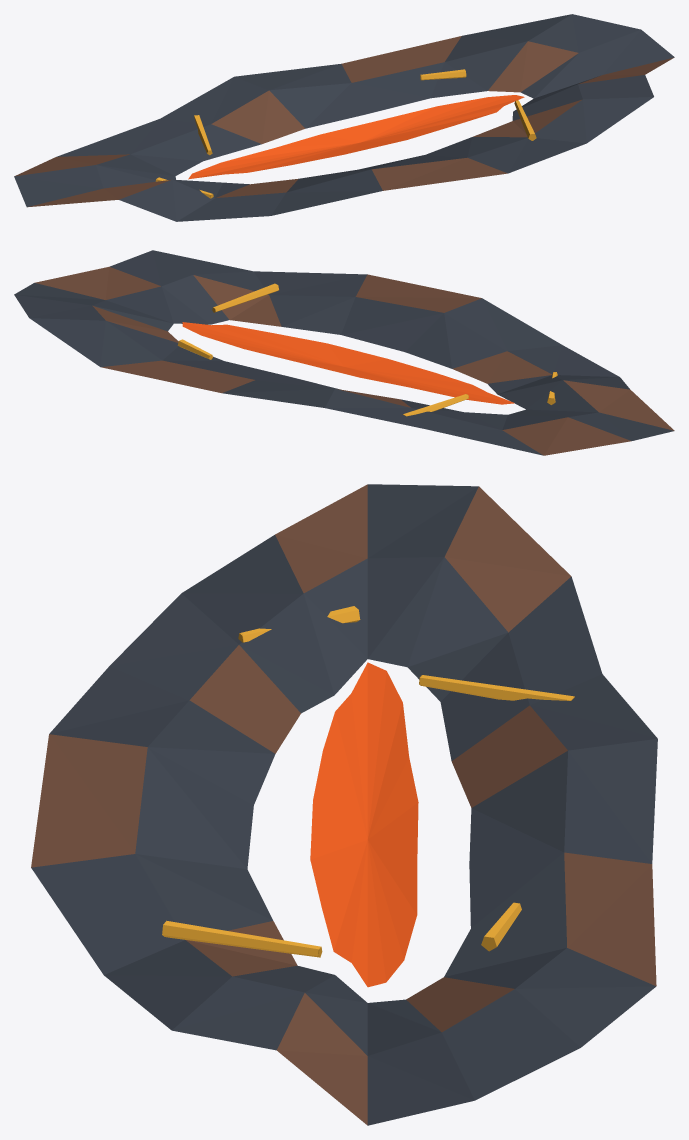
Rendered from 17_piscina_lava_3d.obj.
The picture shows the model from 3 angles, top to bottom: view 1: azimuth 30°, elevation 25°; view 2: azimuth 150°, elevation 25°; view 3: azimuth 270°, elevation 25°; orthographic projection. The views are drawn at different scales.
Visible parts, largest first — view 1: irregular_basalt_lava_basin, glowing_lava_inset, glowing_lava_fissure_2; view 2: irregular_basalt_lava_basin, glowing_lava_inset, glowing_lava_fissure_1, glowing_lava_fissure_3; view 3: irregular_basalt_lava_basin, glowing_lava_inset, glowing_lava_fissure_1, glowing_lava_fissure_3.
Boxes of the visible parts, left/top/right/bottom form: irregular_basalt_lava_basin: left=14, top=14, right=674, bottom=221; glowing_lava_inset: left=188, top=95, right=524, bottom=179; glowing_lava_fissure_2: left=420, top=69, right=466, bottom=80; irregular_basalt_lava_basin: left=14, top=250, right=674, bottom=455; glowing_lava_inset: left=182, top=322, right=514, bottom=404; glowing_lava_fissure_1: left=212, top=283, right=278, bottom=312; glowing_lava_fissure_3: left=403, top=394, right=468, bottom=416; irregular_basalt_lava_basin: left=31, top=484, right=657, bottom=1125; glowing_lava_inset: left=310, top=662, right=418, bottom=987; glowing_lava_fissure_1: left=162, top=920, right=322, bottom=957; glowing_lava_fissure_3: left=419, top=675, right=574, bottom=700.
Size of the model in its own units: 2.03 by 0.0749 by 0.8586.
Materials: 7 (7 with a texture image).
